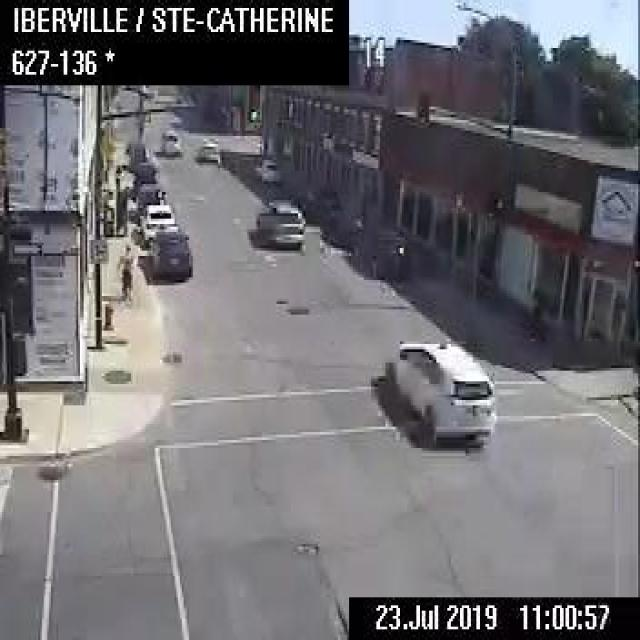pedestrian: (114, 242, 132, 302)
vehicle: (392, 336, 492, 440), (346, 221, 408, 276), (255, 197, 305, 246), (147, 224, 192, 278), (318, 200, 367, 246), (296, 182, 340, 224), (138, 201, 178, 246), (135, 180, 165, 212), (131, 160, 156, 191), (253, 155, 280, 181), (125, 139, 147, 168), (198, 136, 220, 162), (158, 127, 180, 152)
